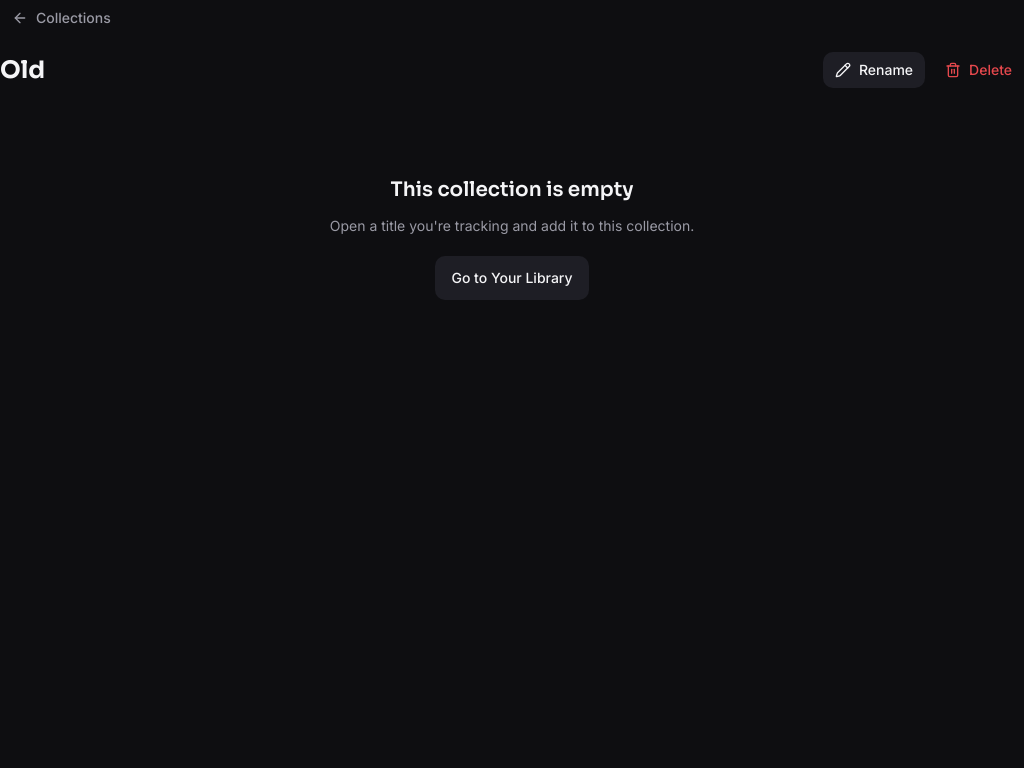
CollectionDetailScreen › renames the collection
Click the button "Rename" at (874, 70), box [823,52,925,88]
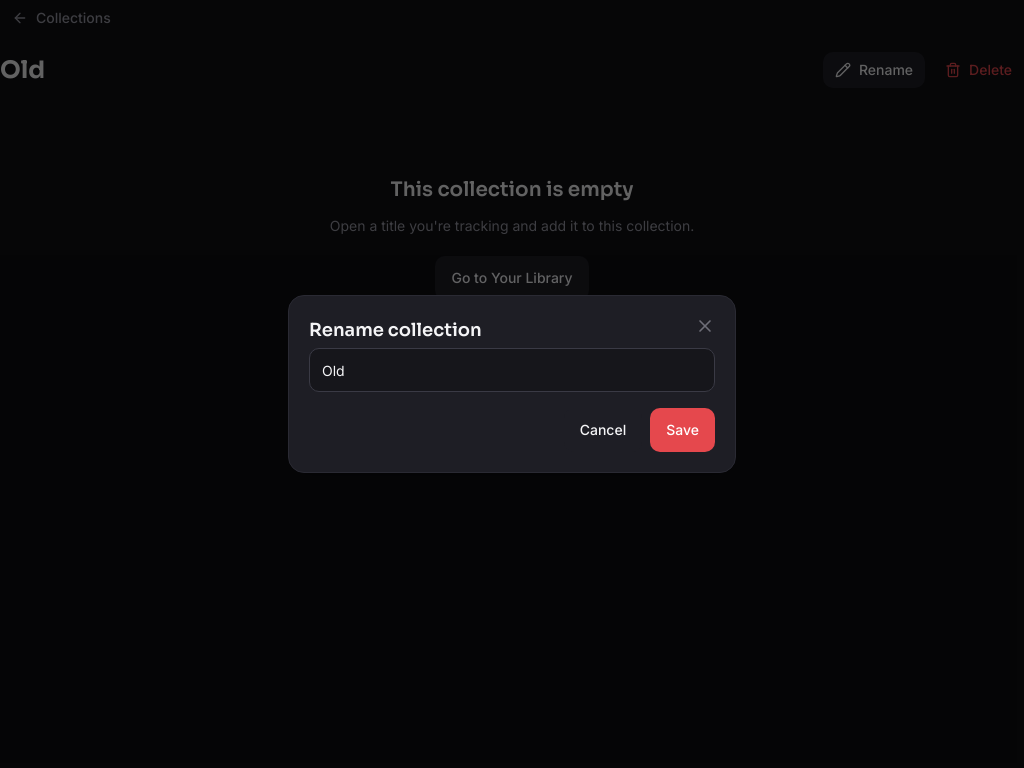
Replace the text in the field named "collection name" with "New Name" at (512, 370), box [309,348,715,392]
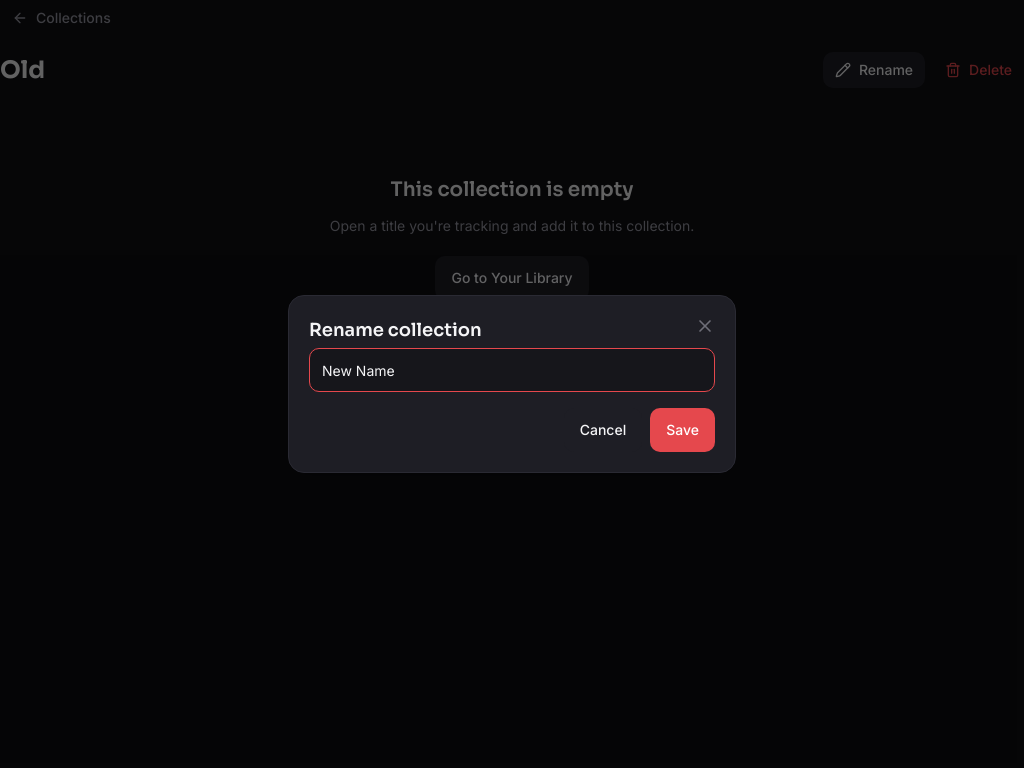
Click the button "Save" at (683, 430), box [650,408,715,452]
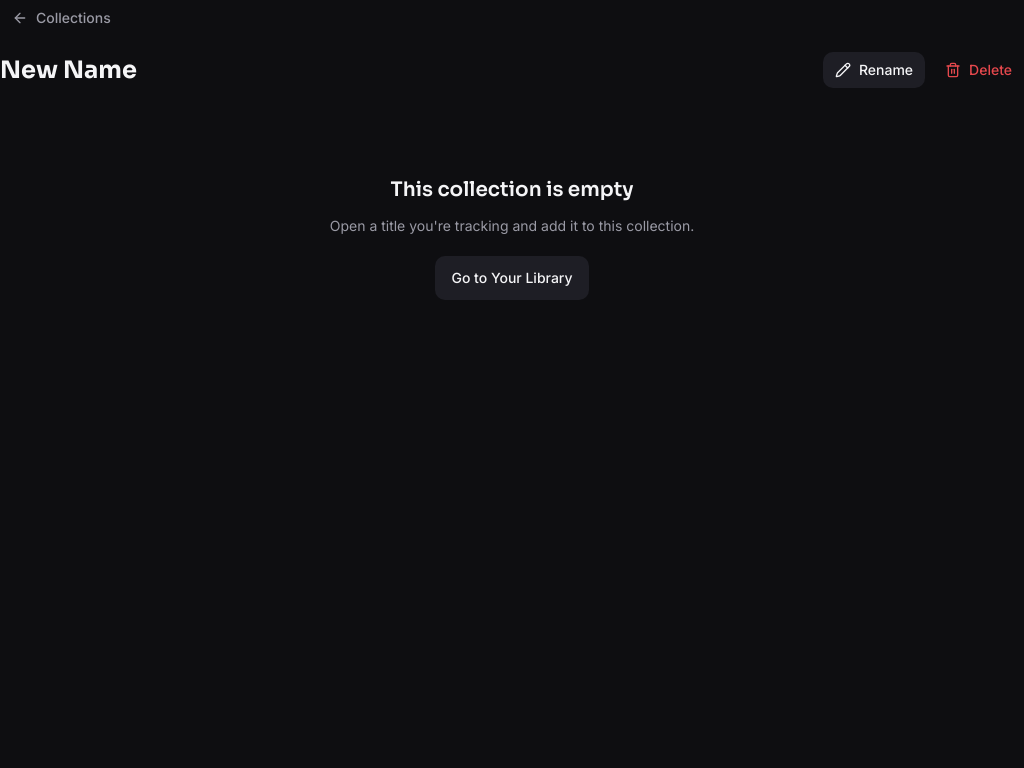
Check: the heading "New Name" is shown, box [0,54,137,86]
